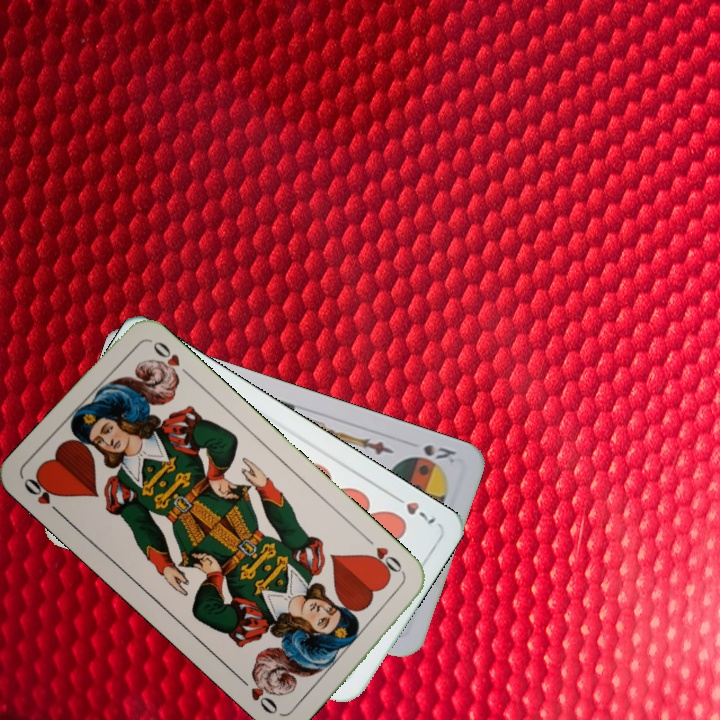H7: (387, 490, 439, 527)
HO: (19, 471, 67, 521), (361, 532, 408, 580)
SK: (419, 440, 461, 466)
